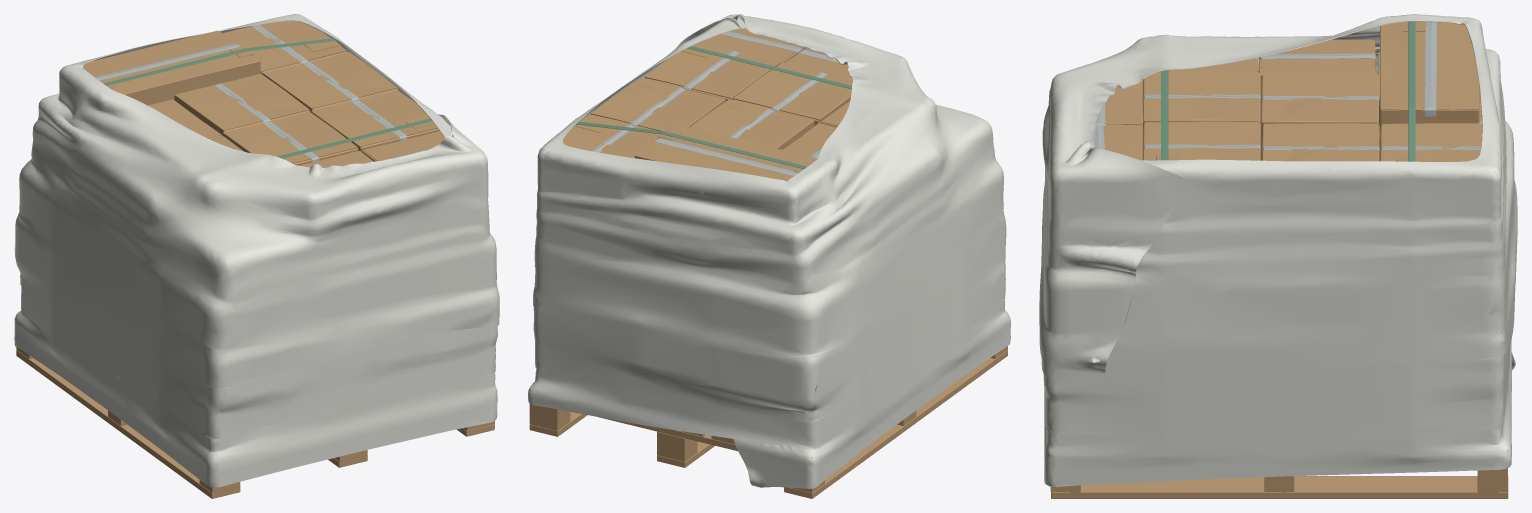
File: pallet_assembly_mixed_e05.glb
3 renders of one model, left to right at view 1: azimuth 30°, elevation 25°; view 2: azimuth 150°, elevation 25°; view 3: azimuth 270°, elevation 25°, orthographic. The views are drawn at different scales.
Bounding box in the file's own units: 1.07 × 0.9975 × 1.25.
